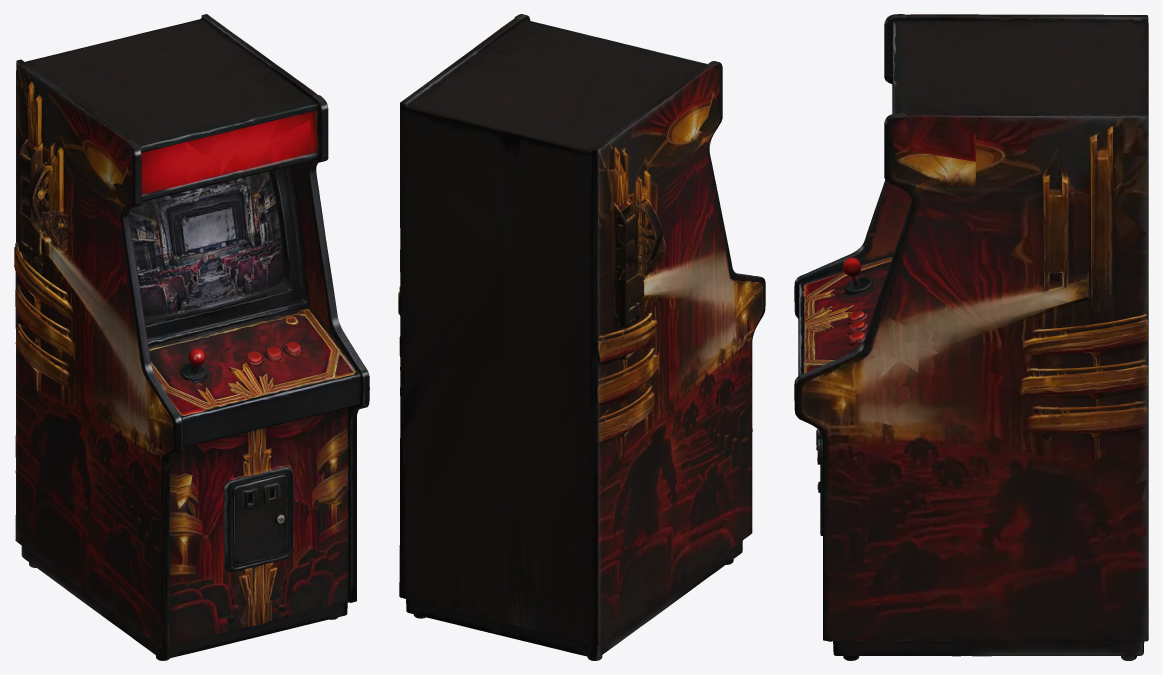
File: cab-kino.glb
The picture shows the model from 3 angles, left to right: view 1: azimuth 30°, elevation 25°; view 2: azimuth 150°, elevation 25°; view 3: azimuth 270°, elevation 25°; orthographic projection. The views are drawn at different scales.
Parts seen in each view (by area): view 1: tripo_node_6e016072-1bee-4b9e-8125-69e22928a410; view 2: tripo_node_6e016072-1bee-4b9e-8125-69e22928a410; view 3: tripo_node_6e016072-1bee-4b9e-8125-69e22928a410.
Part boxes in pixels (box(x1,y1,x2,y2)): tripo_node_6e016072-1bee-4b9e-8125-69e22928a410: box(14, 14, 369, 660); tripo_node_6e016072-1bee-4b9e-8125-69e22928a410: box(398, 14, 765, 660); tripo_node_6e016072-1bee-4b9e-8125-69e22928a410: box(794, 14, 1148, 660).
Bounding box in the file's own units: 0.4633 × 0.9778 × 0.5725.
1 material, 1 textured.
